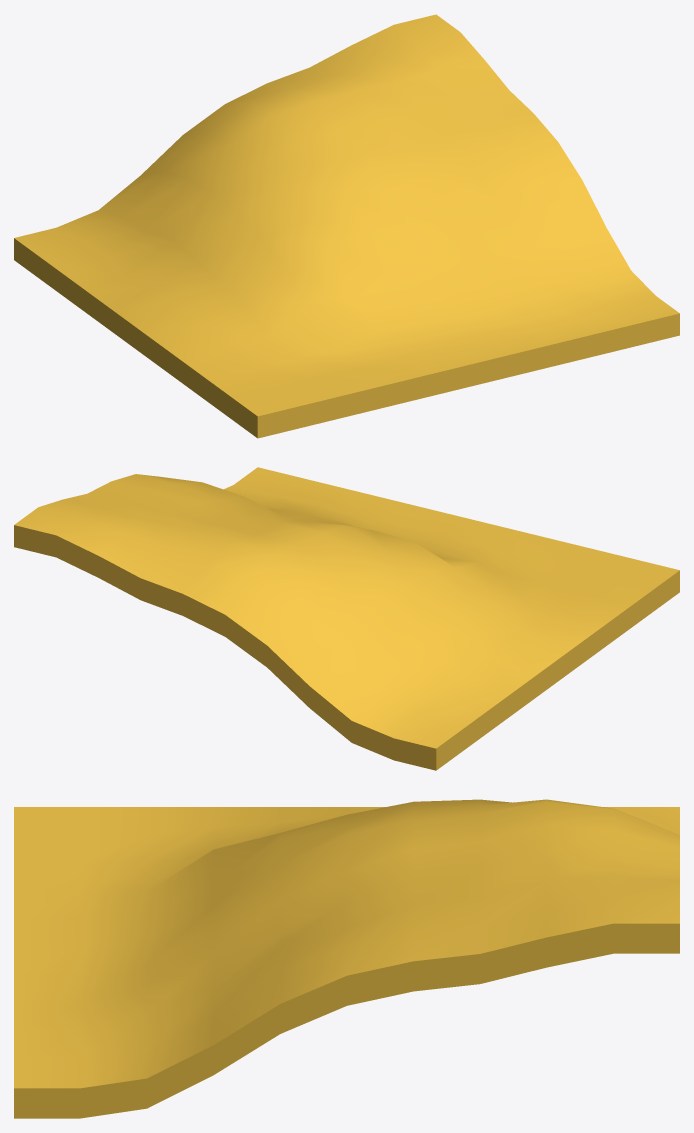
File: Flach - Unten - Ecke a - a.fbx
3 views of the same model, one above another, from view 1: azimuth 30°, elevation 25°; view 2: azimuth 150°, elevation 25°; view 3: azimuth 270°, elevation 25° (orthographic). The views are drawn at different scales.
Visible parts, largest first — view 1: Flach - Unten - Ecke a - a; view 2: Flach - Unten - Ecke a - a; view 3: Flach - Unten - Ecke a - a.
Boxes of the visible parts, x1,y1,x2,y2 form: Flach - Unten - Ecke a - a: (14,14,679,438); Flach - Unten - Ecke a - a: (14,467,679,770); Flach - Unten - Ecke a - a: (14,799,679,1118).
Size of the model in its own units: 394 by 127 by 394.
